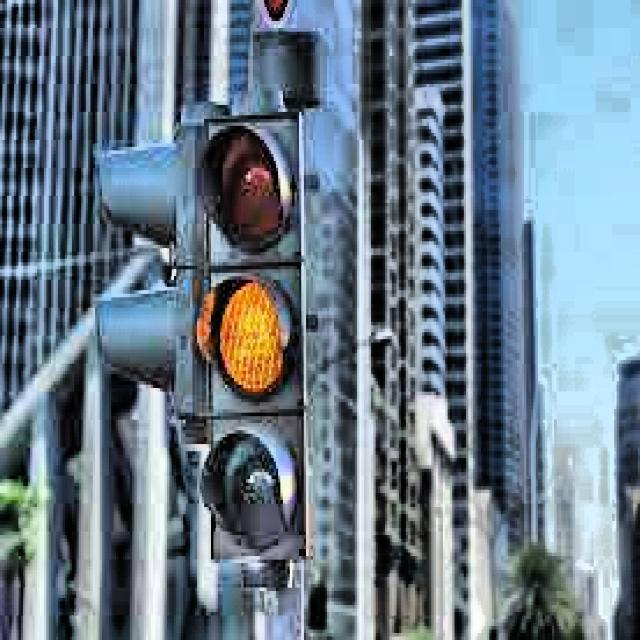yellow: (202, 120, 308, 563)
